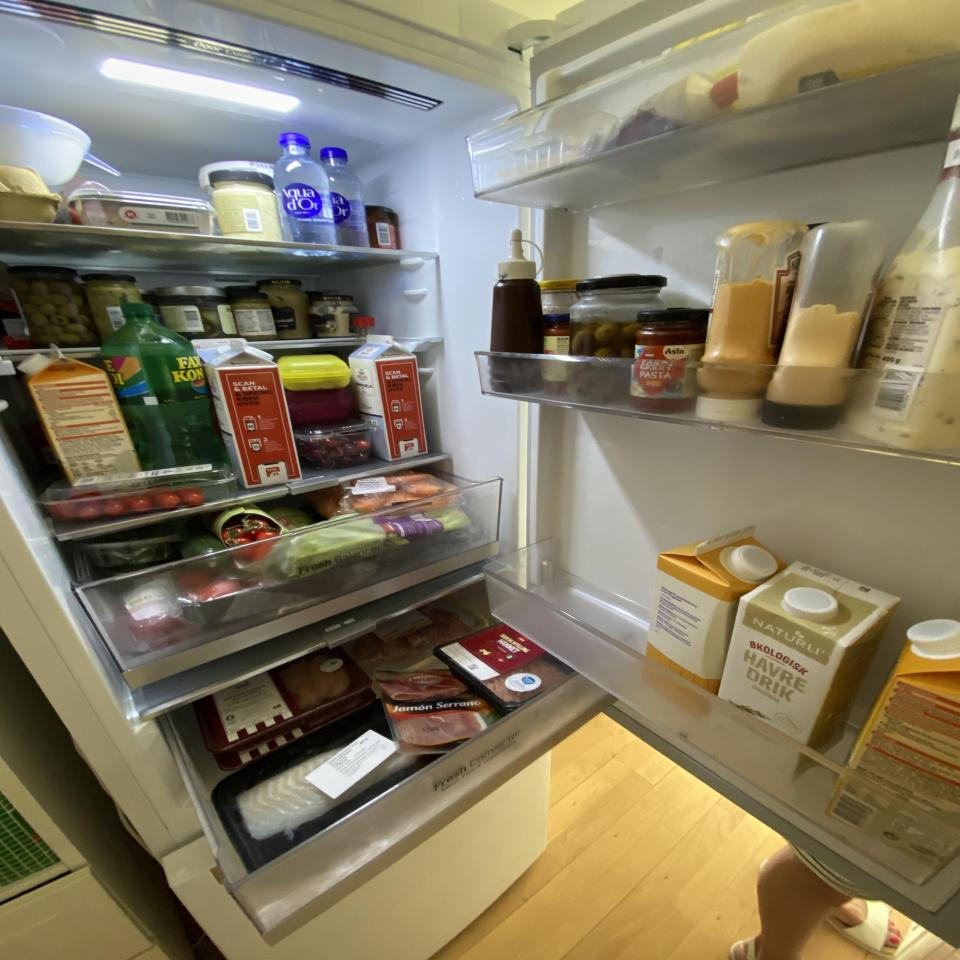Huevos: (0, 165, 60, 223)
Tomate: (44, 478, 204, 520), (222, 518, 279, 562), (196, 581, 243, 601)
Zanahoria: (310, 471, 460, 517)
